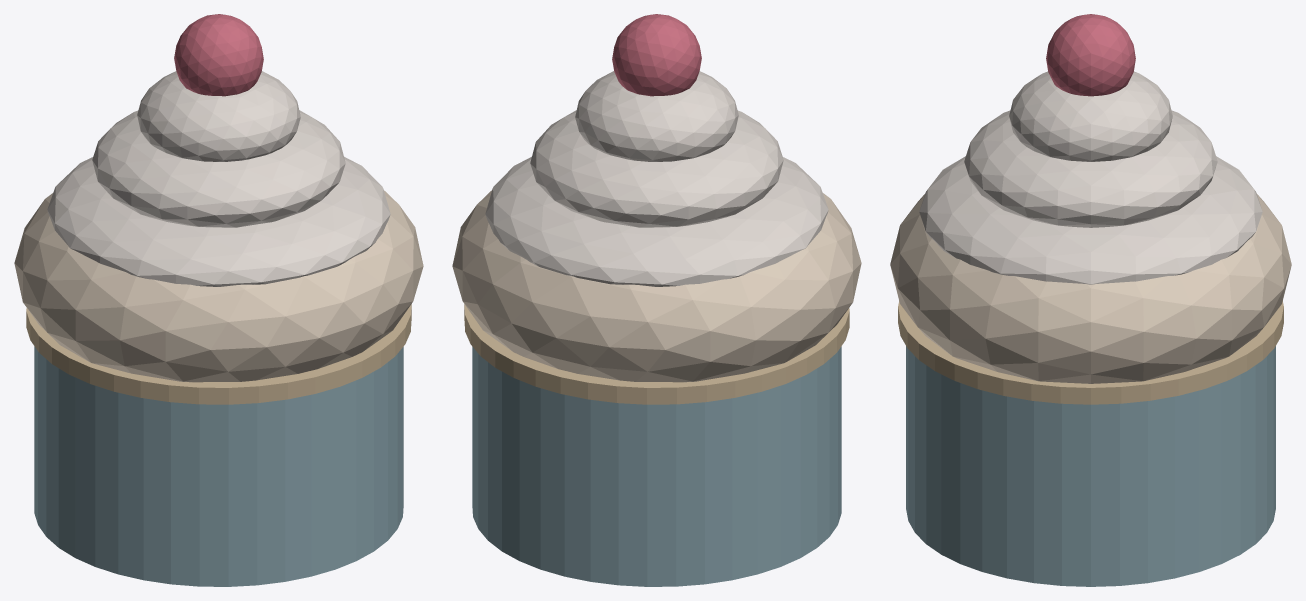
Rendered from cupcake.glb.
3 views of the same model, side by side, from view 1: azimuth 30°, elevation 25°; view 2: azimuth 150°, elevation 25°; view 3: azimuth 270°, elevation 25° (orthographic).
Parts seen in each view (by area): view 1: cupcake_00, cupcake_02, cupcake_03, cupcake_04, cupcake_05, cupcake_01, cupcake_06; view 2: cupcake_00, cupcake_02, cupcake_03, cupcake_04, cupcake_05, cupcake_01, cupcake_06; view 3: cupcake_00, cupcake_02, cupcake_03, cupcake_04, cupcake_05, cupcake_01, cupcake_06.
Part boxes in pixels (bbox=[...]): cupcake_00: bbox=[34, 346, 403, 586]; cupcake_02: bbox=[14, 190, 423, 382]; cupcake_03: bbox=[47, 156, 390, 286]; cupcake_04: bbox=[92, 110, 345, 227]; cupcake_05: bbox=[137, 71, 300, 161]; cupcake_01: bbox=[26, 304, 411, 404]; cupcake_06: bbox=[174, 14, 263, 96]; cupcake_00: bbox=[472, 346, 841, 586]; cupcake_02: bbox=[452, 190, 861, 382]; cupcake_03: bbox=[485, 156, 828, 286]; cupcake_04: bbox=[530, 110, 783, 227]; cupcake_05: bbox=[575, 71, 738, 161]; cupcake_01: bbox=[464, 304, 849, 404]; cupcake_06: bbox=[612, 14, 701, 96]; cupcake_00: bbox=[906, 346, 1275, 586]; cupcake_02: bbox=[890, 194, 1291, 383]; cupcake_03: bbox=[919, 156, 1262, 284]; cupcake_04: bbox=[964, 110, 1217, 227]; cupcake_05: bbox=[1009, 71, 1172, 161]; cupcake_01: bbox=[898, 301, 1283, 404]; cupcake_06: bbox=[1046, 14, 1135, 96].
Bounding box in the file's own units: 1.56 × 2.05 × 1.52.
